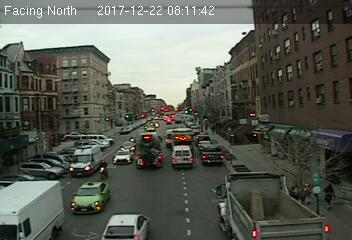car: (72, 180, 110, 214), (201, 144, 224, 164), (112, 147, 134, 163)
truck: (217, 170, 326, 240), (135, 132, 165, 169), (70, 145, 104, 175), (171, 144, 194, 169)
